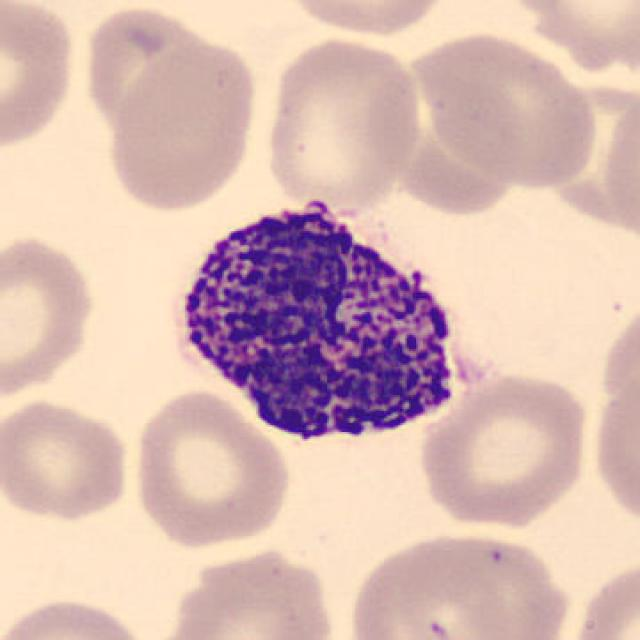Basophil: (155, 188, 480, 458)
RBC: (406, 27, 604, 190), (412, 367, 596, 532), (259, 34, 425, 214), (101, 35, 262, 215), (128, 386, 295, 552), (340, 527, 574, 640), (78, 2, 230, 141), (0, 229, 100, 407), (0, 395, 135, 525), (158, 545, 340, 640), (540, 83, 640, 232), (0, 0, 80, 155), (502, 0, 638, 76), (588, 352, 638, 538), (0, 590, 158, 640), (277, 0, 455, 39), (562, 552, 640, 640), (599, 306, 640, 466)
